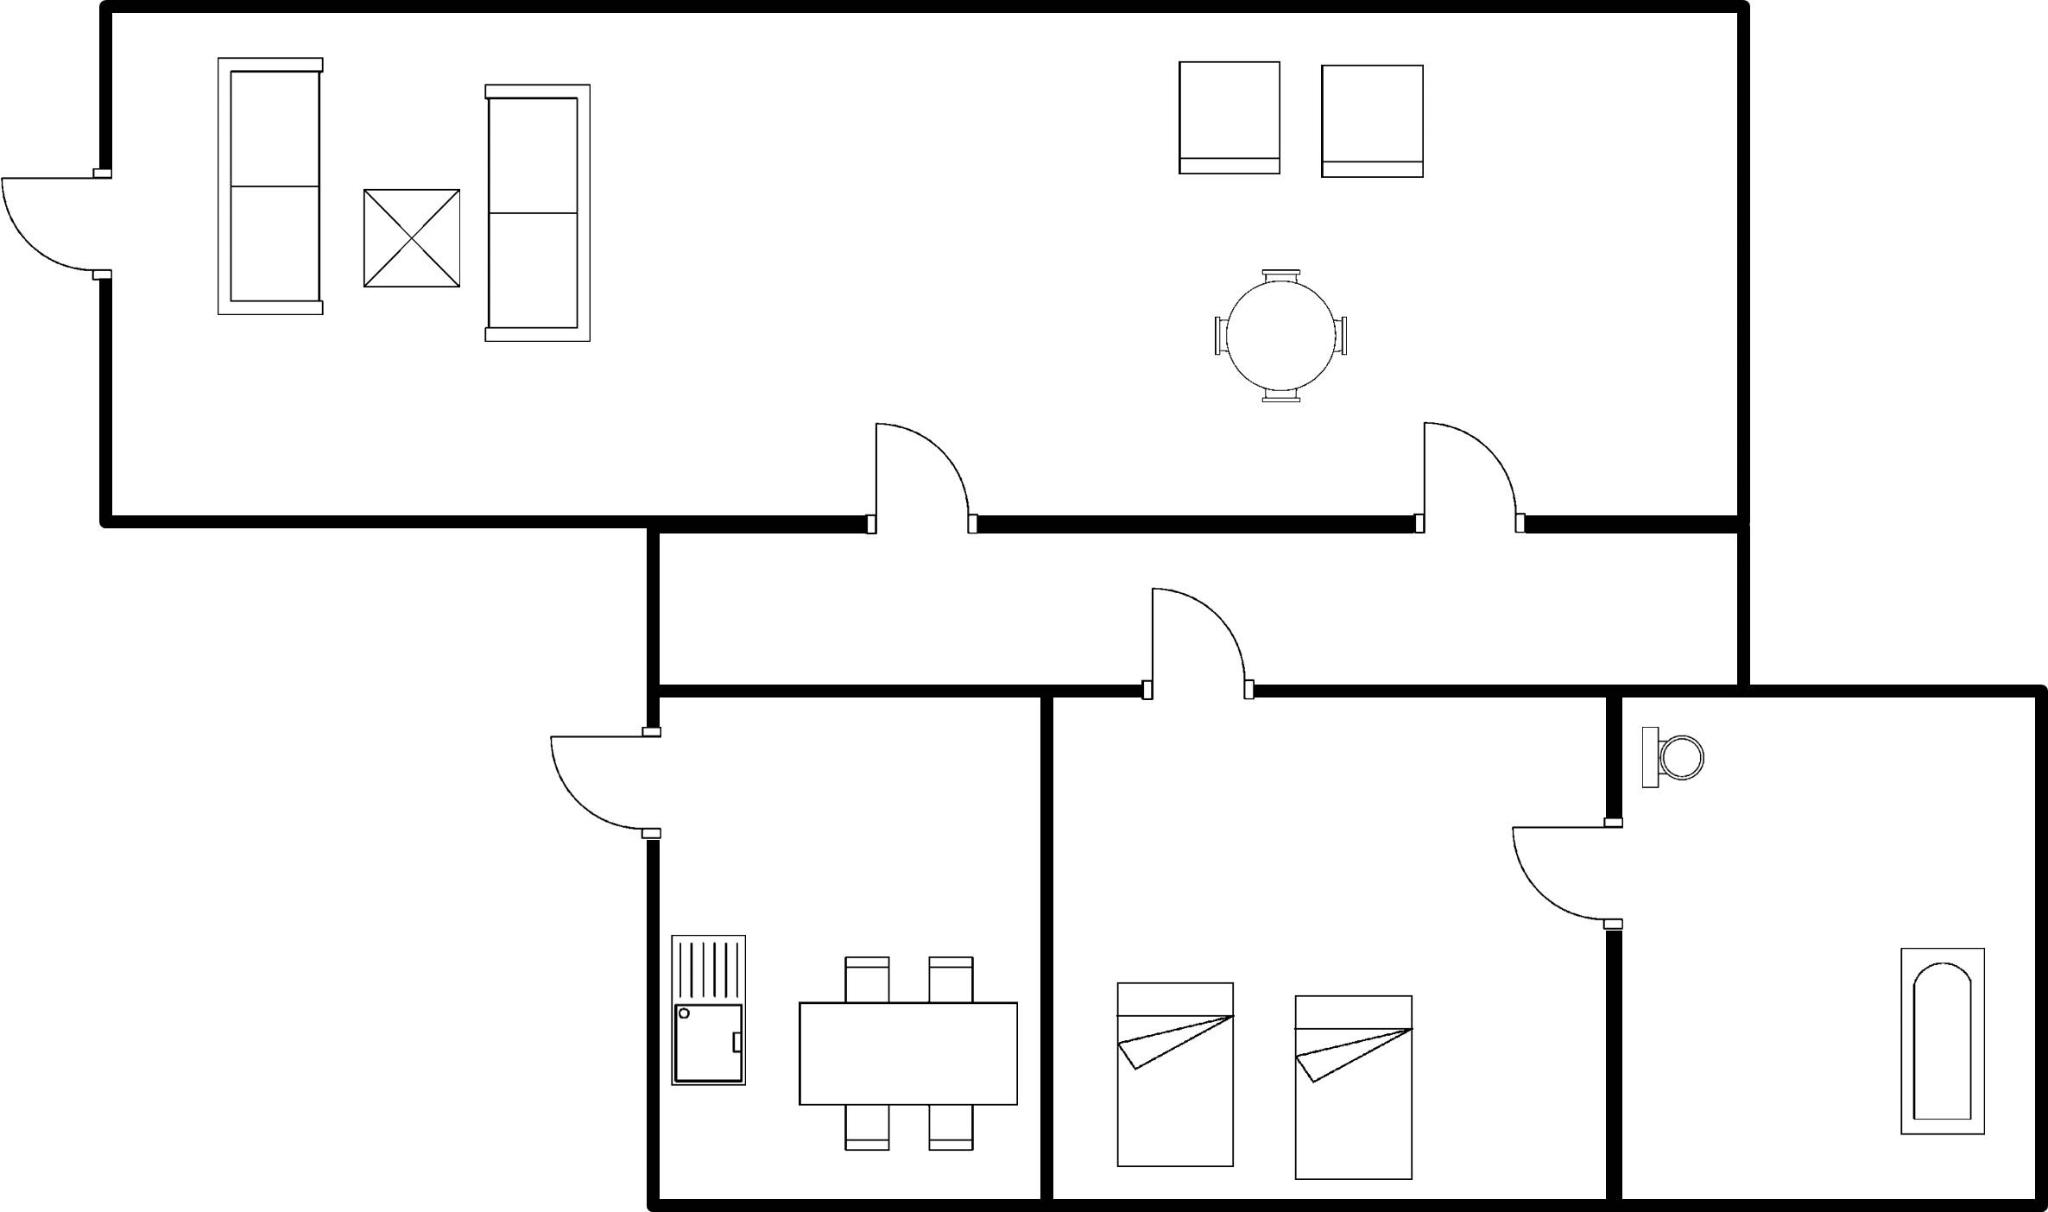bed: (1102, 971, 1248, 1177), (1285, 981, 1429, 1187)
dining_table: (787, 947, 1024, 1161)
round_table: (1199, 254, 1359, 416)
sink: (663, 923, 757, 1094)
sofa: (202, 40, 332, 325), (470, 74, 600, 349)
toilet: (1631, 716, 1713, 798)
tub: (1886, 935, 1992, 1146)
